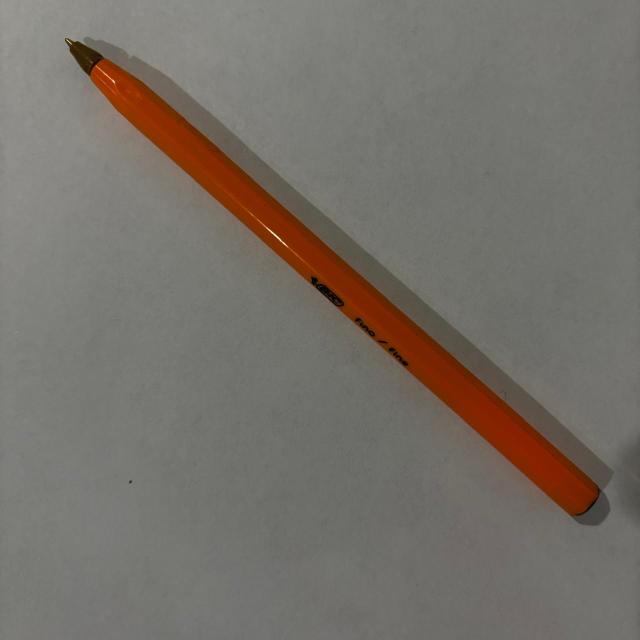pencil: (64, 36, 601, 518)
